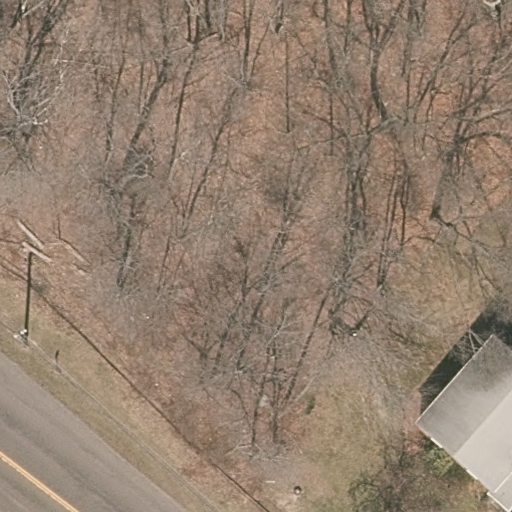DT: (7, 327, 31, 348)
